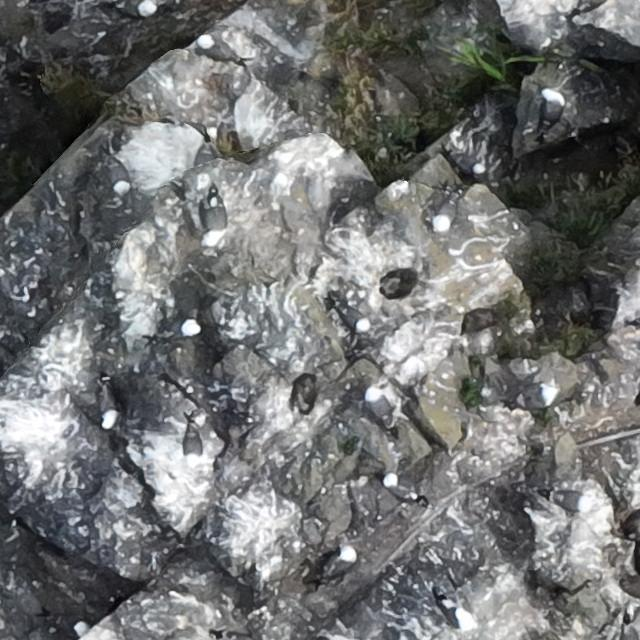umineko: (366, 383, 400, 429), (199, 35, 244, 66), (440, 595, 478, 631), (102, 152, 130, 194), (515, 385, 562, 410), (206, 200, 225, 246), (451, 152, 489, 174), (164, 320, 206, 338), (98, 388, 116, 428), (552, 492, 586, 511), (435, 198, 456, 228), (342, 306, 368, 330), (123, 1, 162, 16), (388, 478, 417, 498), (330, 548, 354, 572), (543, 91, 561, 122), (186, 430, 201, 463)
